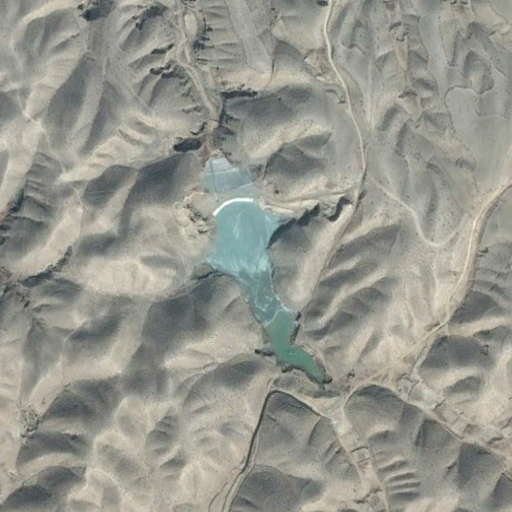tp: (183, 146, 335, 385)
